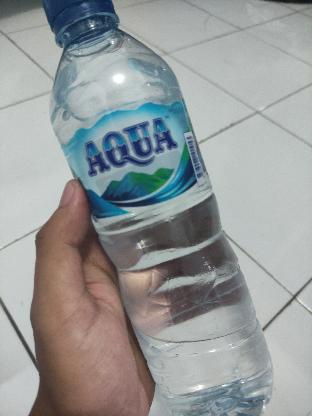Plastic Bottle: (42, 0, 274, 416)
